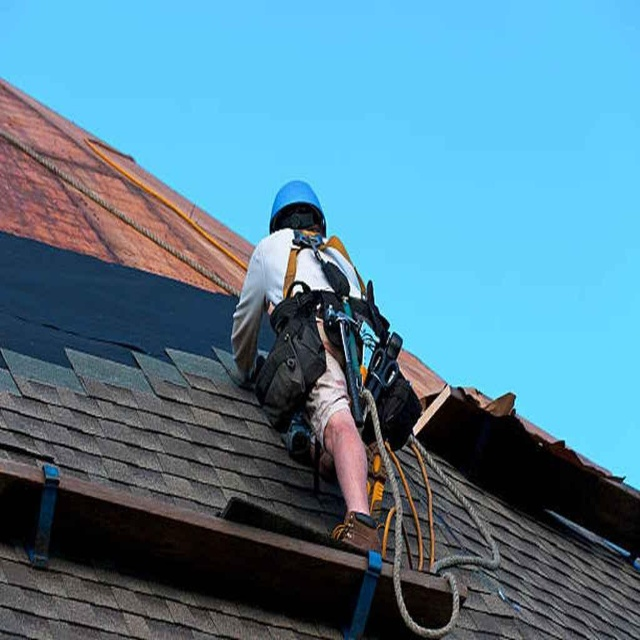Arnes_seguridad: (264, 230, 381, 434)
